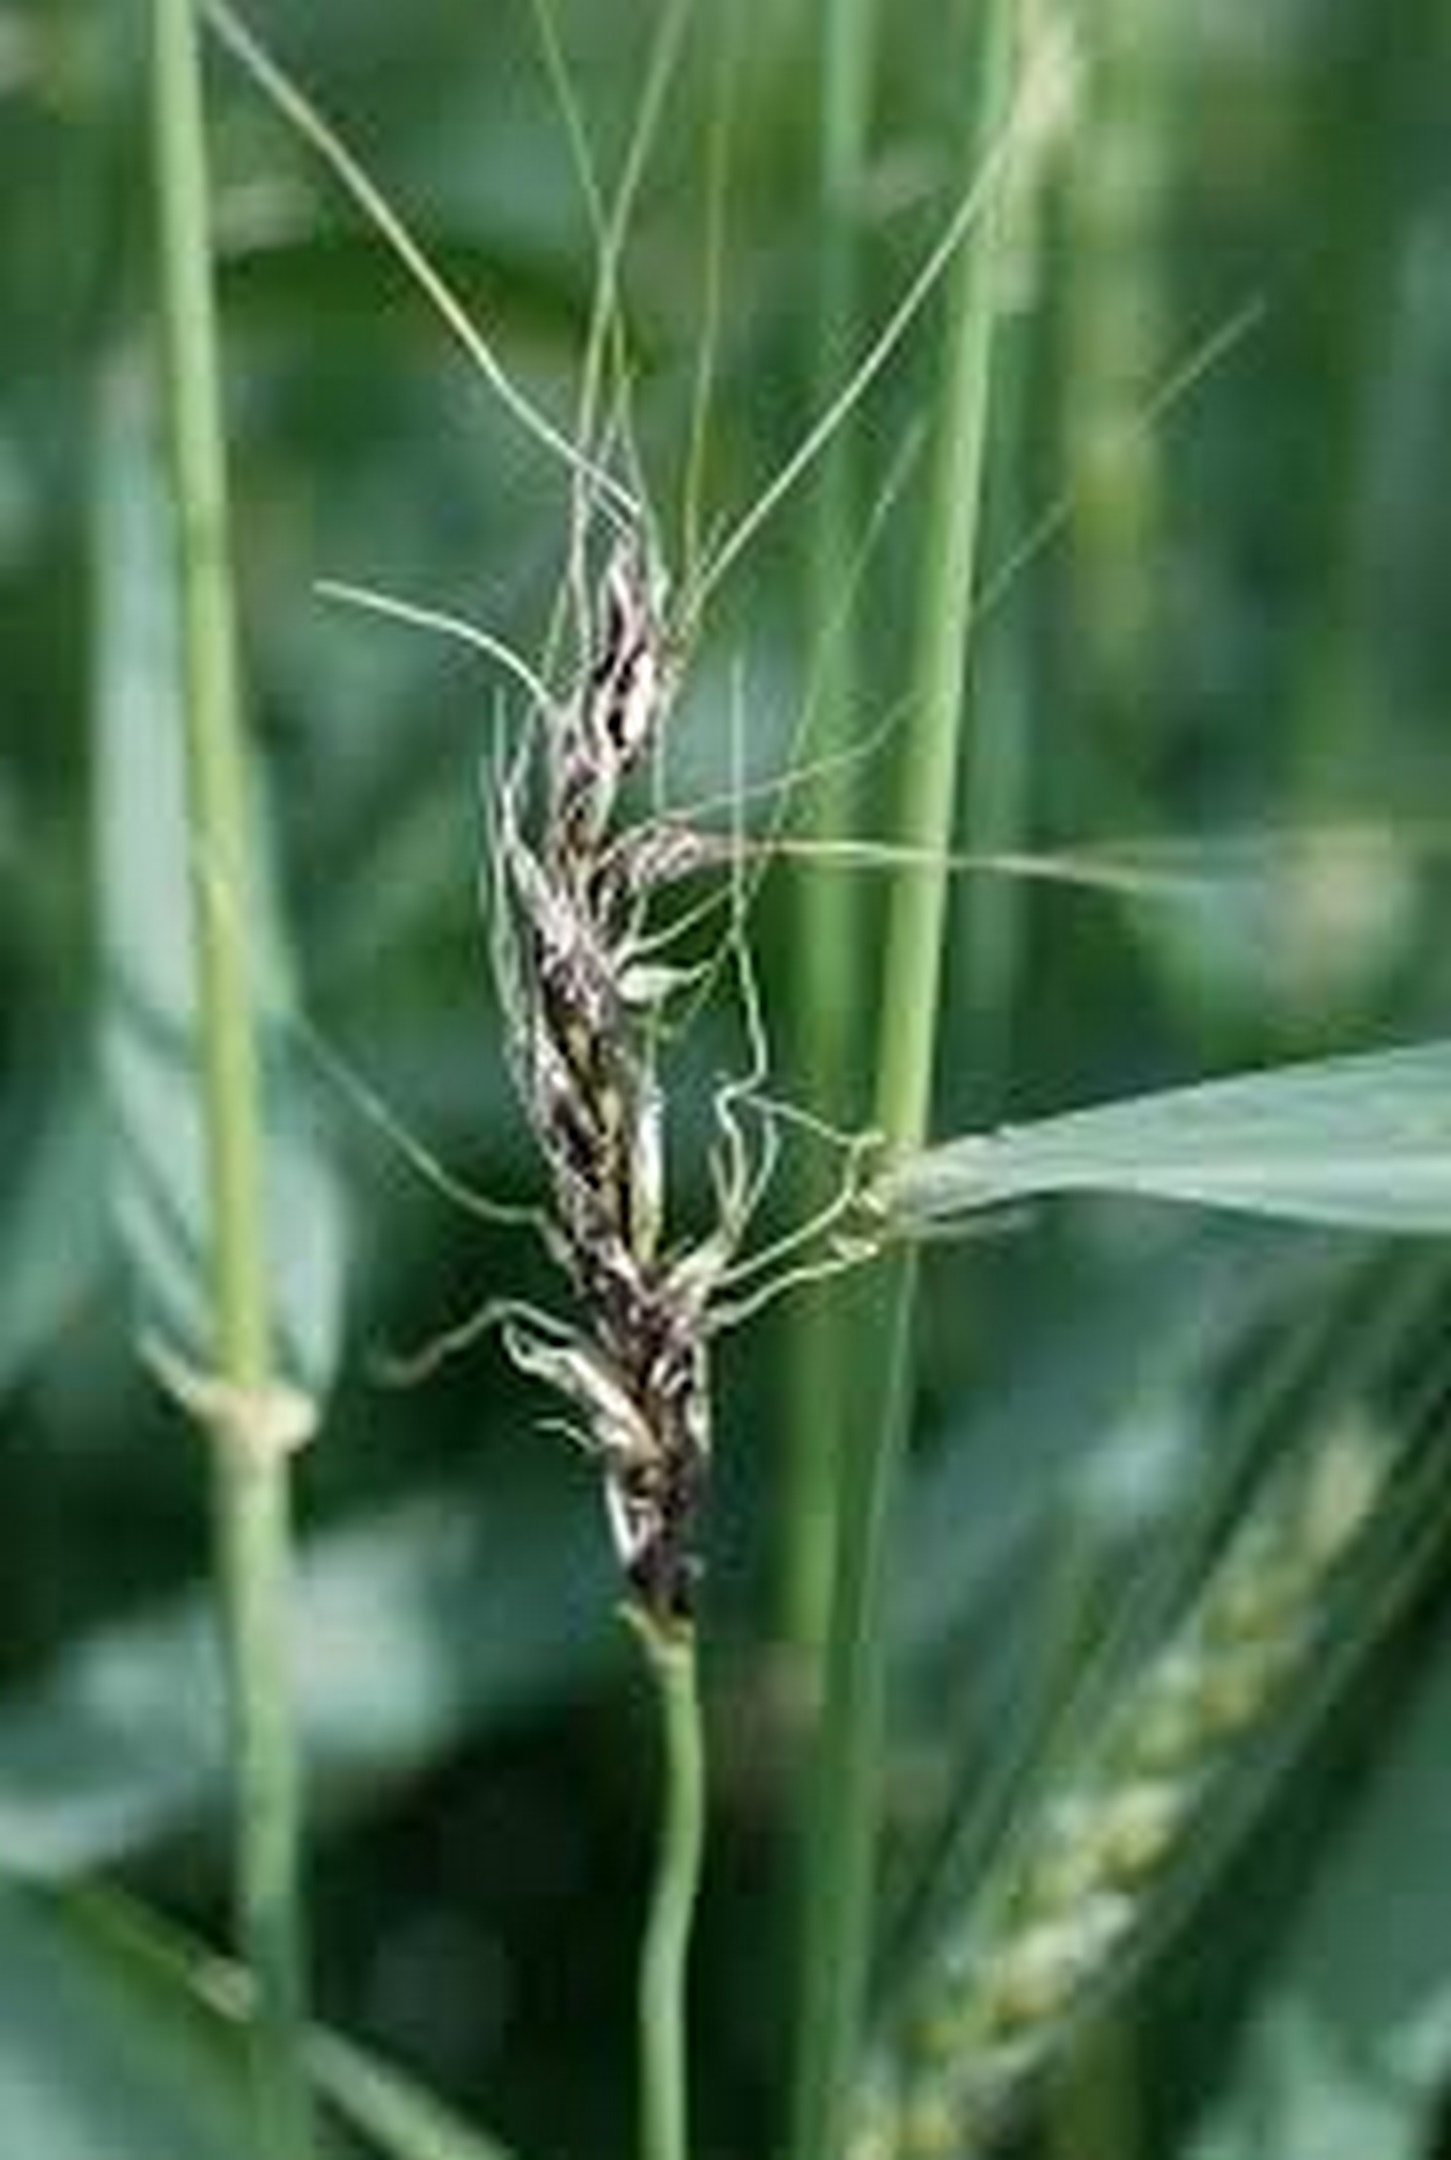Wheat Loose Smut: (473, 529, 802, 1592)
